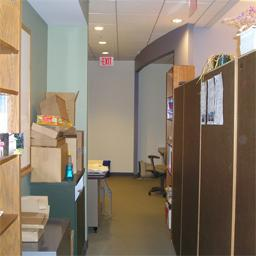Ventana: (0, 33, 29, 177)
